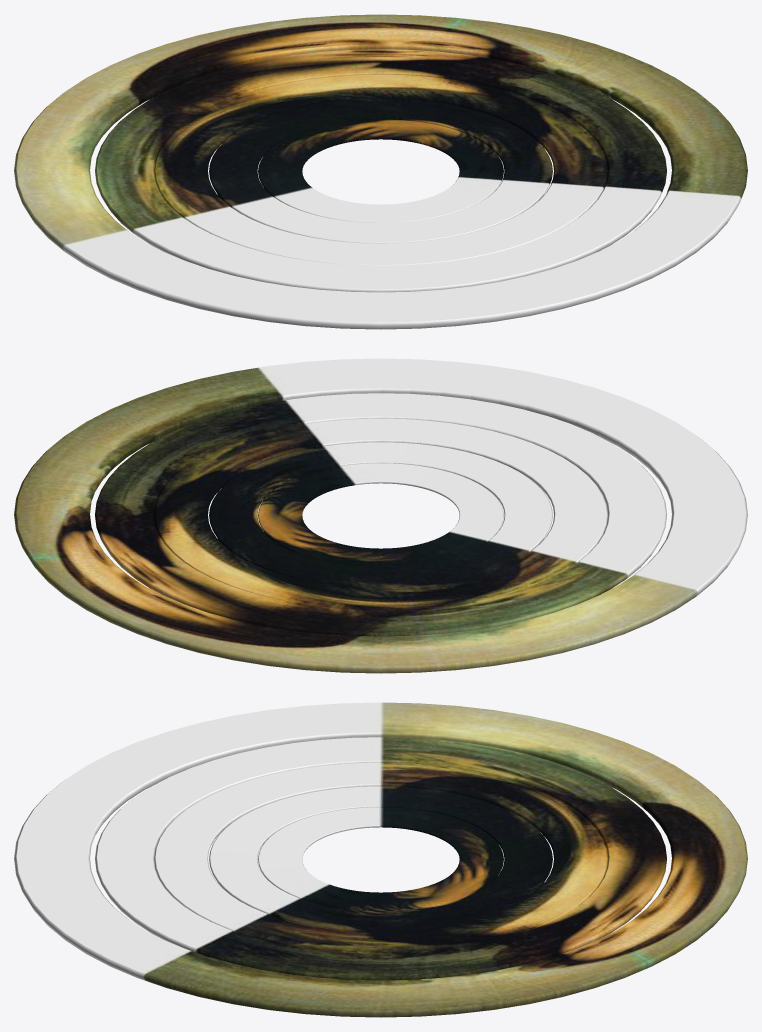
The model's file is cylinders.fbx.
3 renders of one model, top to bottom at view 1: azimuth 30°, elevation 25°; view 2: azimuth 150°, elevation 25°; view 3: azimuth 270°, elevation 25°, orthographic.
Parts seen in each view (by area): view 1: Code_Cylinder_01, Code_Cylinder_02, Code_Cylinder_03, Code_Cylinder_04, Code_Cylinder_05; view 2: Code_Cylinder_01, Code_Cylinder_02, Code_Cylinder_03, Code_Cylinder_04, Code_Cylinder_05; view 3: Code_Cylinder_01, Code_Cylinder_02, Code_Cylinder_03, Code_Cylinder_04, Code_Cylinder_05.
Part boxes in pixels (x1,y1,x2,y2): Code_Cylinder_01: [14, 14, 747, 329]; Code_Cylinder_02: [95, 49, 666, 292]; Code_Cylinder_03: [154, 74, 607, 265]; Code_Cylinder_04: [209, 98, 552, 243]; Code_Cylinder_05: [258, 119, 503, 222]; Code_Cylinder_01: [14, 358, 747, 673]; Code_Cylinder_02: [95, 393, 666, 636]; Code_Cylinder_03: [154, 418, 607, 609]; Code_Cylinder_04: [209, 442, 552, 587]; Code_Cylinder_05: [258, 463, 503, 566]; Code_Cylinder_01: [14, 702, 747, 1017]; Code_Cylinder_02: [95, 737, 666, 980]; Code_Cylinder_03: [154, 762, 607, 953]; Code_Cylinder_04: [209, 786, 552, 931]; Code_Cylinder_05: [258, 807, 503, 910].
Size of the model in its own units: 76.96 by 0.8131 by 76.96.
